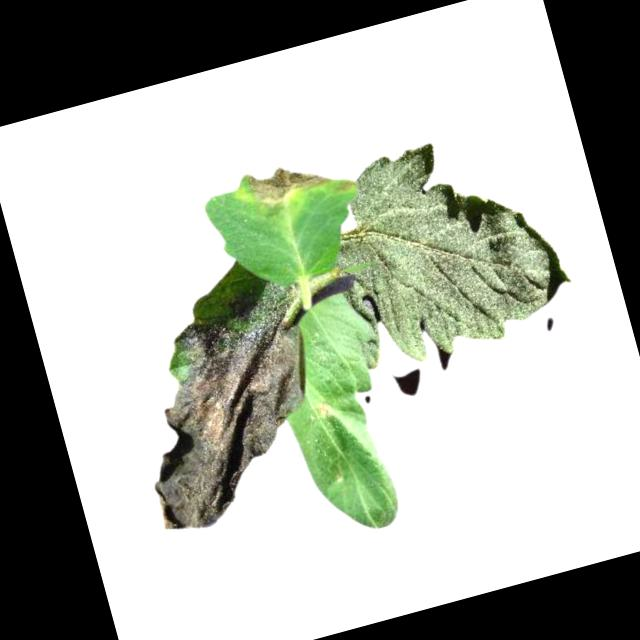Late_blight: (111, 278, 347, 540), (243, 151, 339, 212), (313, 398, 341, 426)
